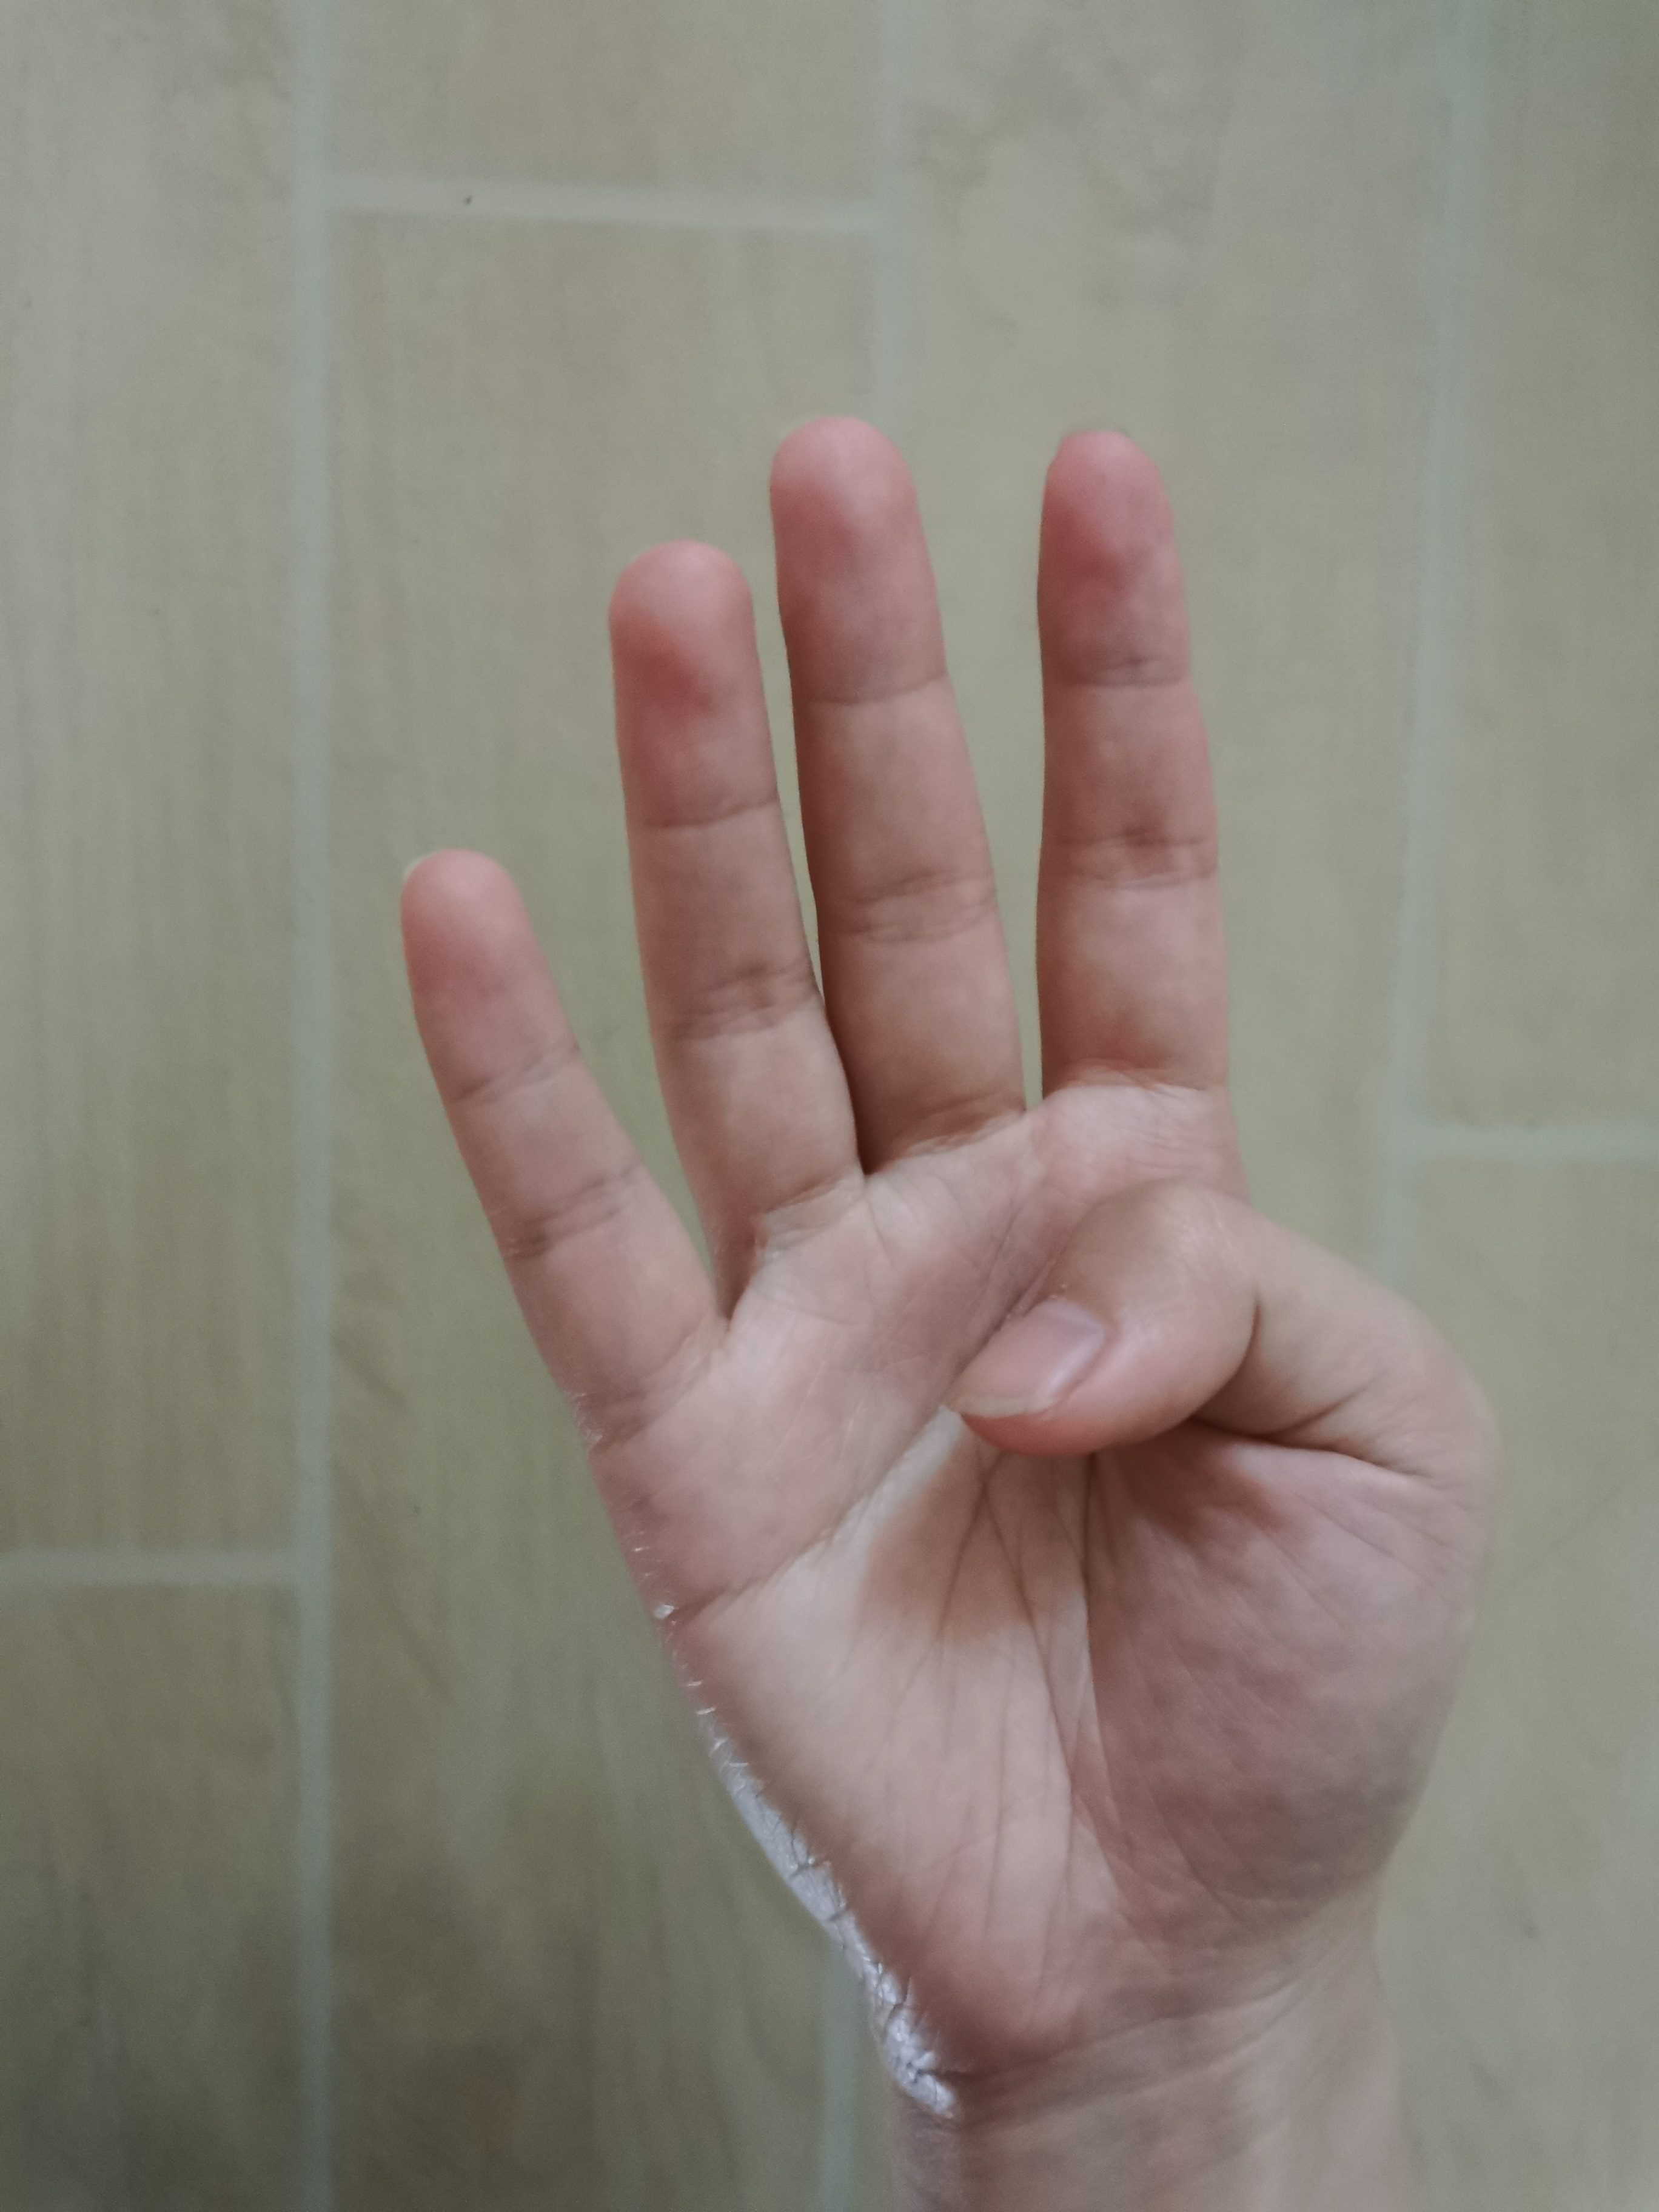right: (380, 402, 1483, 2099)
